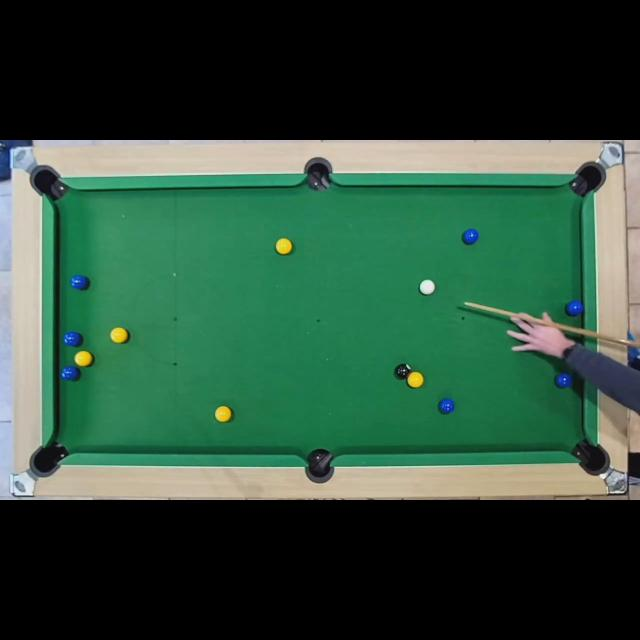Ball: (554, 372, 572, 388), (214, 406, 232, 422), (64, 332, 82, 348), (110, 328, 128, 344), (74, 350, 92, 366), (462, 229, 478, 245), (407, 372, 423, 388), (439, 399, 455, 415), (276, 238, 292, 254), (419, 280, 435, 296), (62, 368, 80, 382), (395, 364, 411, 378), (566, 302, 582, 316), (72, 275, 86, 289)
